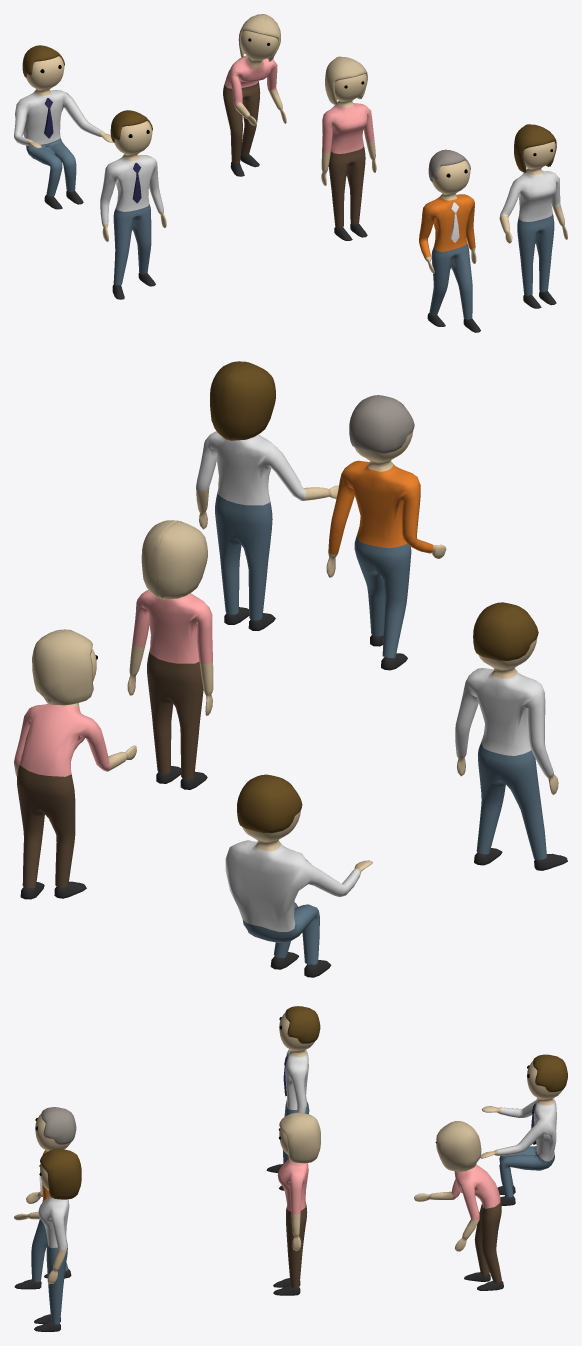
The model's file is Diplom_manekens_01.FBX.
The picture shows the model from 3 angles, top to bottom: view 1: azimuth 30°, elevation 25°; view 2: azimuth 150°, elevation 25°; view 3: azimuth 270°, elevation 25°; orthographic projection. The views are drawn at different scales.
Visible parts, largest first — view 1: Cylinder013, Cylinder012, Cylinder011, Cylinder010, Cylinder014, Cylinder016; view 2: Cylinder013, Cylinder011, Cylinder010, Cylinder012, Cylinder016, Cylinder014; view 3: Cylinder016, Cylinder014, Cylinder011, Cylinder010, Cylinder013, Cylinder012.
Boxes of the visible parts, left/top/right/bottom form: Cylinder013: left=100, top=110, right=166, bottom=299; Cylinder012: left=419, top=149, right=480, bottom=332; Cylinder011: left=499, top=124, right=567, bottom=308; Cylinder010: left=321, top=56, right=376, bottom=240; Cylinder014: left=14, top=45, right=113, bottom=209; Cylinder016: left=223, top=14, right=286, bottom=176; Cylinder013: left=455, top=602, right=567, bottom=870; Cylinder011: left=196, top=361, right=338, bottom=630; Cylinder010: left=127, top=520, right=213, bottom=789; Cylinder012: left=326, top=395, right=446, bottom=670; Cylinder016: left=14, top=629, right=136, bottom=899; Cylinder014: left=225, top=774, right=372, bottom=977; Cylinder016: left=414, top=1121, right=503, bottom=1290; Cylinder014: left=480, top=1054, right=567, bottom=1205; Cylinder011: left=14, top=1149, right=81, bottom=1331; Cylinder010: left=273, top=1112, right=320, bottom=1295; Cylinder013: left=266, top=1006, right=320, bottom=1190; Cylinder012: left=14, top=1107, right=76, bottom=1289.
Bounding box in the file's own units: 3420 × 1615 × 4620.
